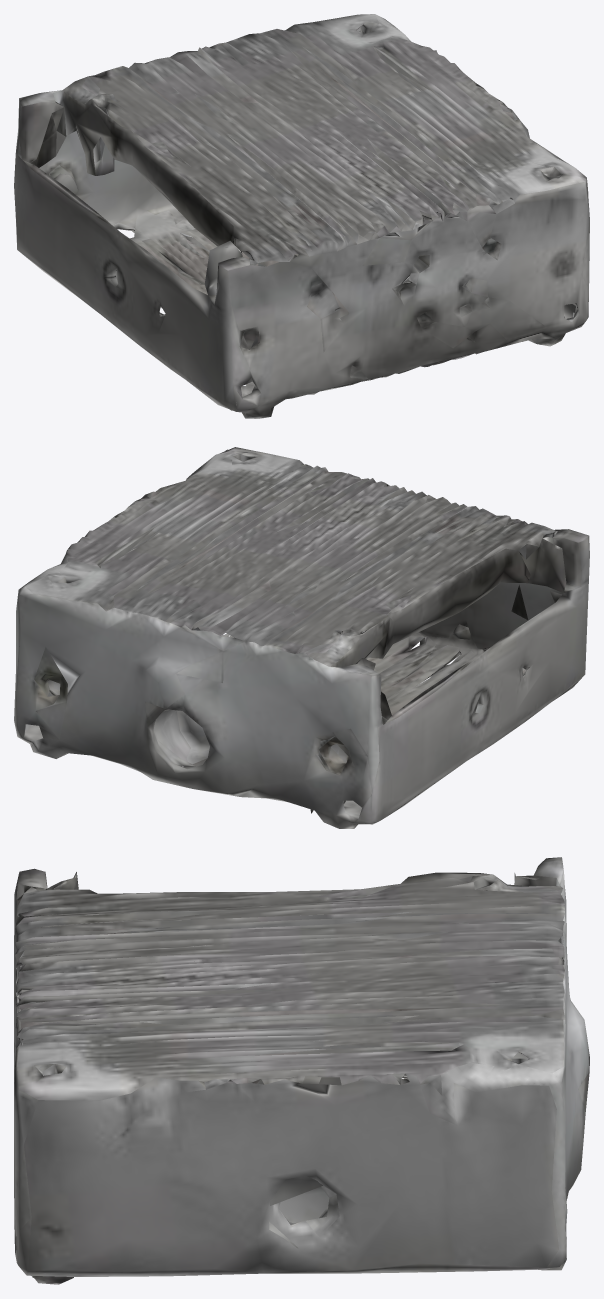
Rendered from kn_heat_sink.glb.
3 views of the same model, one above another, from view 1: azimuth 30°, elevation 25°; view 2: azimuth 150°, elevation 25°; view 3: azimuth 270°, elevation 25° (orthographic). The views are drawn at different scales.
Visible parts, largest first — view 1: geometry_0; view 2: geometry_0; view 3: geometry_0.
Part boxes in pixels (<box>): geometry_0: <box>14,14,589,418</box>; geometry_0: <box>14,447,589,828</box>; geometry_0: <box>14,857,589,1284</box>.
Size of the model in its own units: 0.9458 by 0.4461 by 0.9995.
1 material, 1 textured.
